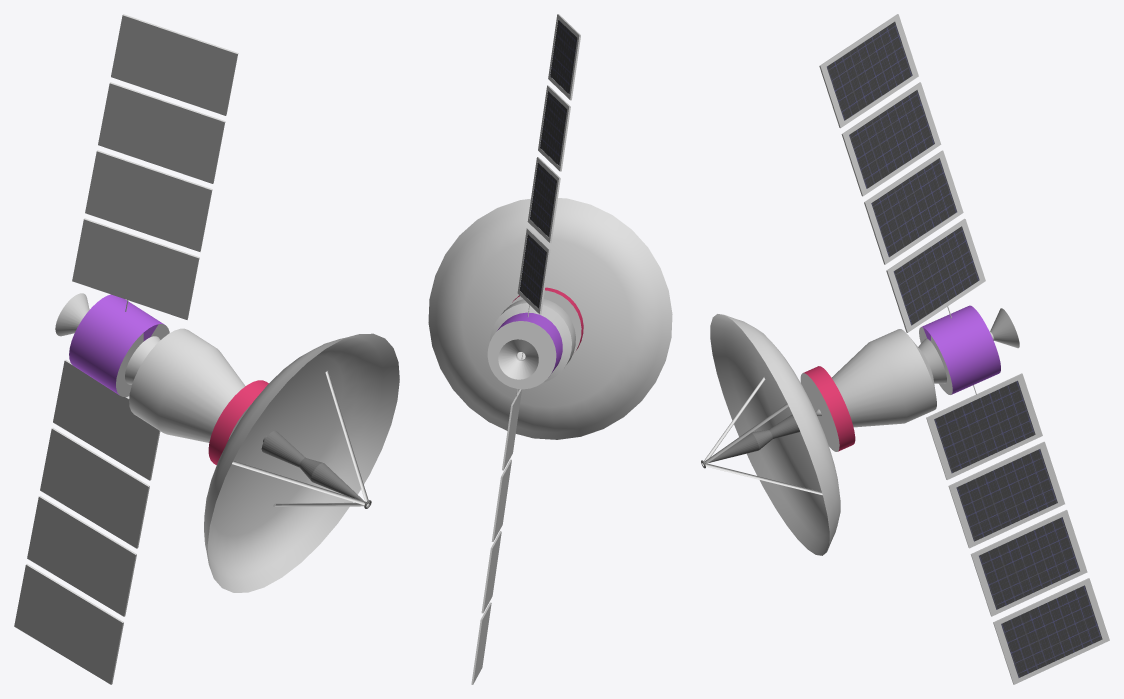
Rendered from solarPanel.glb.
The picture shows the model from 3 angles, left to right: view 1: azimuth 30°, elevation 25°; view 2: azimuth 150°, elevation 25°; view 3: azimuth 270°, elevation 25°; orthographic projection. The views are drawn at different scales.
Visible parts, largest first — view 1: Circle, LeftPanels, solarPanel.001, solarPanel.002, solarPanel, solarPanel.006, solarPanel.003, solarPanel.005, RigthPanels, FuelTank, Circle.001, Circle.005 (+2 smaller); view 2: Circle, solarPanel.001, solarPanel.002, LeftPanels, solarPanel, FuelTank, solarPanel.003, solarPanel.006, solarPanel.005, RigthPanels; view 3: Circle, solarPanel.005, RigthPanels, solarPanel.003, solarPanel.006, solarPanel, LeftPanels, solarPanel.002, solarPanel.001, FuelTank, Circle.005, Circle.001.
Boxes of the visible parts, x1,y1,x2,y2 form: Circle: (55, 293, 399, 592); LeftPanels: (72, 218, 199, 319); solarPanel.001: (98, 82, 225, 183); solarPanel.002: (85, 150, 212, 251); solarPanel: (111, 14, 238, 115); solarPanel.006: (40, 428, 149, 548); solarPanel.003: (14, 564, 123, 684); solarPanel.005: (27, 496, 136, 616); RigthPanels: (53, 360, 160, 480); FuelTank: (69, 294, 164, 395); Circle.001: (261, 430, 371, 508); Circle.005: (208, 380, 268, 464); Circle: (428, 198, 672, 439); solarPanel.001: (538, 85, 570, 171); solarPanel.002: (527, 157, 560, 243); LeftPanels: (517, 228, 550, 314); solarPanel: (548, 14, 580, 100); FuelTank: (497, 312, 562, 373); solarPanel.003: (471, 602, 491, 684); solarPanel.006: (491, 459, 511, 541); solarPanel.005: (481, 531, 501, 613); RigthPanels: (502, 389, 521, 470); Circle: (710, 308, 1019, 555); solarPanel.005: (970, 510, 1087, 616); RigthPanels: (926, 373, 1042, 479); solarPanel.003: (993, 578, 1109, 684); solarPanel.006: (948, 441, 1064, 548); solarPanel: (819, 14, 918, 128); LeftPanels: (886, 218, 985, 332); solarPanel.002: (864, 150, 963, 264); solarPanel.001: (841, 82, 941, 196); FuelTank: (922, 305, 1000, 394); Circle.005: (803, 366, 855, 451); Circle.001: (701, 414, 800, 468).
Bounding box in the file's own units: 2.37 × 6.9 × 3.95.
5 materials, 1 textured.
